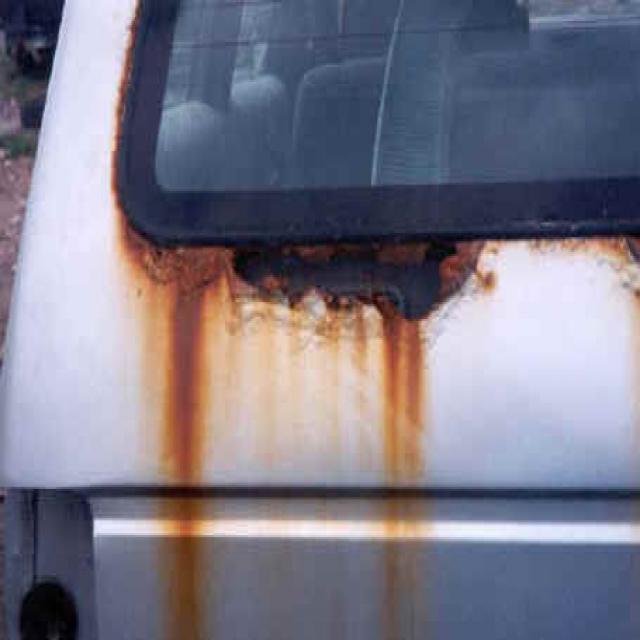corrosion: (111, 1, 497, 343), (535, 233, 640, 296)
